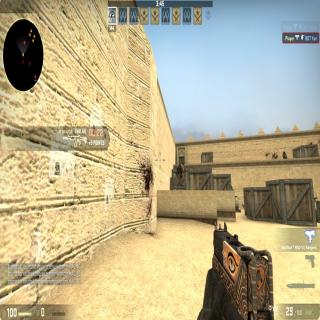CT-Body: (175, 160, 185, 187)
CT-Head: (181, 160, 184, 167), (282, 151, 286, 155)
